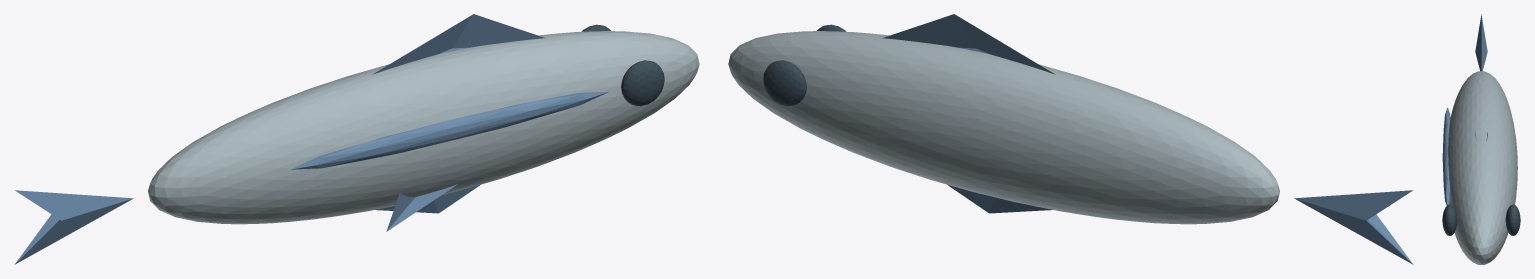
The model's file is Ikan_Selayang.glb.
The picture shows the model from 3 angles, left to right: view 1: azimuth 30°, elevation 25°; view 2: azimuth 150°, elevation 25°; view 3: azimuth 270°, elevation 25°; orthographic projection. The views are drawn at different scales.
Visible parts, largest first — view 1: Part_00, Part_07, Part_01, Part_02, Part_05, Part_04, Part_03; view 2: Part_00, Part_01, Part_02, Part_06, Part_03; view 3: Part_00, Part_07, Part_01, Part_05, Part_06.
Part boxes in pixels (x1=…): Part_00: x1=148, y1=31, x2=699, y2=224; Part_07: x1=290, y1=91, x2=608, y2=169; Part_01: x1=14, y1=190, x2=133, y2=264; Part_02: x1=372, y1=14, x2=545, y2=74; Part_05: x1=621, y1=60, x2=664, y2=106; Part_04: x1=386, y1=184, x2=457, y2=231; Part_03: x1=375, y1=184, x2=480, y2=213; Part_00: x1=728, y1=31, x2=1279, y2=224; Part_01: x1=1294, y1=190, x2=1413, y2=264; Part_02: x1=882, y1=14, x2=1055, y2=74; Part_06: x1=763, y1=60, x2=806, y2=106; Part_03: x1=947, y1=184, x2=1052, y2=213; Part_00: x1=1448, y1=71, x2=1517, y2=264; Part_07: x1=1442, y1=107, x2=1450, y2=205; Part_01: x1=1475, y1=14, x2=1487, y2=71; Part_05: x1=1442, y1=204, x2=1457, y2=235; Part_06: x1=1505, y1=204, x2=1520, y2=235.
Size of the model in its own units: 1.23 by 0.3289 by 0.1881.
